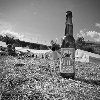beer: (59, 9, 76, 80)
